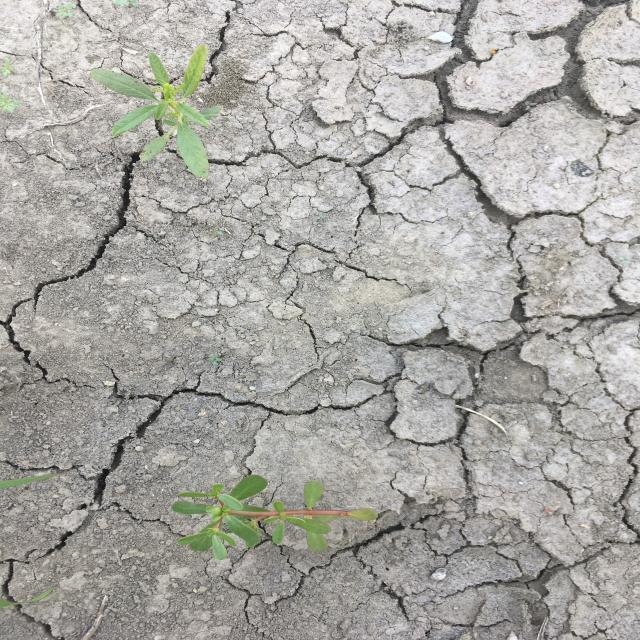Purslane: (170, 474, 380, 562)
Waterhemp: (87, 44, 225, 180)
